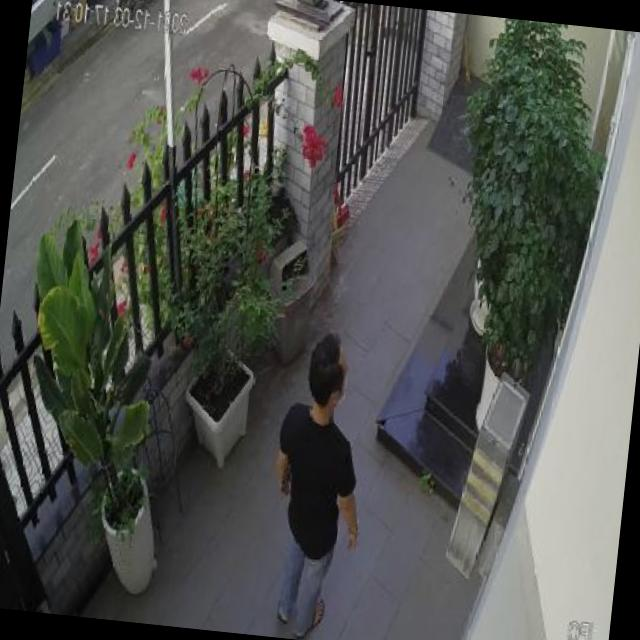Person: (255, 329, 379, 640)
